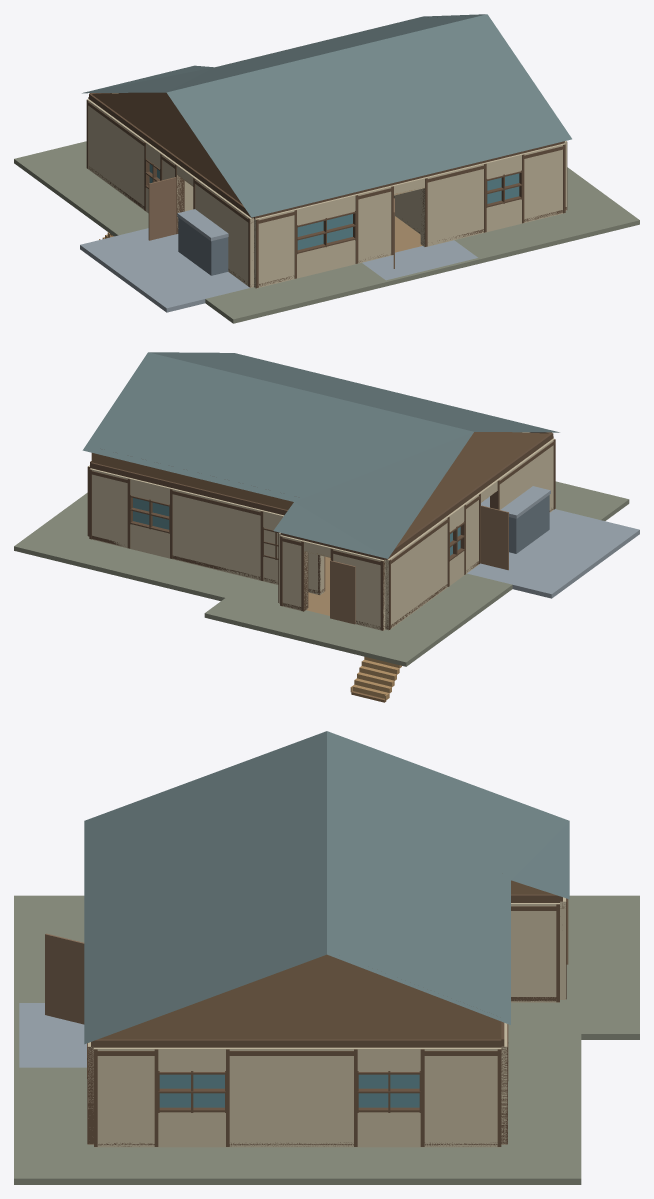
File: tv_26_05_timber_house.glb
3 views of the same model, one above another, from view 1: azimuth 30°, elevation 25°; view 2: azimuth 150°, elevation 25°; view 3: azimuth 270°, elevation 25° (orthographic). The views are drawn at different scales.
Visible parts, largest first — view 1: roof_0_0, floor_connector_apron_0, floor_porch_0_0_0, gable_cladding_0_5, wall_0_ext4_3.42, wall_0_ext5_7.81, wall_0_ext5_0.00, wall_0_ext4_11.62, wall_0_ext4_0.00, wall_0_ext4_7.42, floor_porch_0_1_0, fixture_0_hearth (+12 smaller); view 2: roof_0_0, floor_connector_apron_0, floor_porch_0_0_0, wall_0_ext2_1.62, gable_cladding_0_5, wall_0_ext5_7.81, wall_0_ext2_7.27, wall_0_ext0_0.00, gable_cladding_0_2, wall_0_ext5_0.00, wall_0_landingbottom_1.46, door_leaf_0_porchdoor (+11 smaller); view 3: roof_0_0, floor_connector_apron_0, gable_cladding_0_3, wall_0_ext3_3.77, wall_0_ext3_0.00, wall_0_ext3_9.00, wall_0_ext1_0.00, floor_porch_0_1_0, eave_0_3, door_leaf_0_frontdoor, window_sill_wall_0_bed2side, window_sill_wall_0_bed1side (+7 smaller).
Boxes of the visible parts, x1,y1,x2,y2 form: roof_0_0: (82, 14, 571, 217); floor_connector_apron_0: (14, 141, 639, 323); floor_porch_0_0_0: (80, 228, 249, 312); gable_cladding_0_5: (92, 92, 242, 204); wall_0_ext4_3.42: (420, 163, 485, 247); wall_0_ext5_7.81: (87, 99, 147, 209); wall_0_ext5_0.00: (194, 177, 253, 287); wall_0_ext4_11.62: (254, 209, 296, 288); wall_0_ext4_0.00: (521, 143, 564, 223); wall_0_ext4_7.42: (355, 185, 393, 263); floor_porch_0_1_0: (362, 240, 477, 280); fixture_0_hearth: (178, 217, 228, 275); roof_0_0: (82, 352, 559, 558); floor_connector_apron_0: (14, 481, 629, 666); floor_porch_0_0_0: (467, 509, 639, 598); wall_0_ext2_1.62: (170, 488, 263, 580); gable_cladding_0_5: (397, 432, 549, 545); wall_0_ext5_7.81: (385, 516, 448, 630); wall_0_ext2_7.27: (90, 468, 130, 548); wall_0_ext0_0.00: (331, 547, 385, 630); gable_cladding_0_2: (91, 453, 293, 509); wall_0_ext5_0.00: (496, 438, 554, 512); wall_0_landingbottom_1.46: (258, 510, 324, 594); door_leaf_0_porchdoor: (481, 505, 508, 570); roof_0_0: (84, 731, 569, 1044); floor_connector_apron_0: (14, 895, 639, 1184); gable_cladding_0_3: (99, 954, 501, 1039); wall_0_ext3_3.77: (226, 1047, 357, 1147); wall_0_ext3_0.00: (420, 1047, 501, 1147); wall_0_ext3_9.00: (94, 1047, 158, 1147); wall_0_ext1_0.00: (511, 903, 559, 1002); floor_porch_0_1_0: (19, 1003, 86, 1067); eave_0_3: (94, 1039, 501, 1047); door_leaf_0_frontdoor: (45, 933, 84, 1024); window_sill_wall_0_bed2side: (158, 1112, 225, 1147); window_sill_wall_0_bed1side: (357, 1112, 420, 1147).
Bounding box in the file's own units: 19.26 × 8.78 × 16.43.
